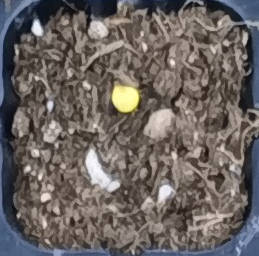pepper seed: (41, 28, 181, 140)
